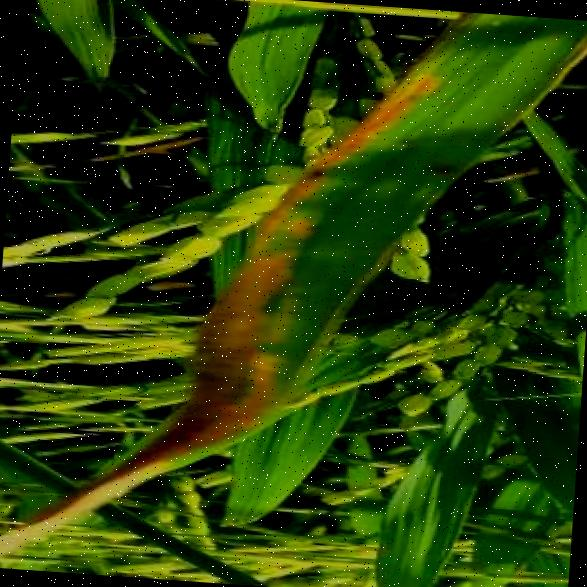Bacteria_Leaf_Blight: (225, 203, 350, 412)
